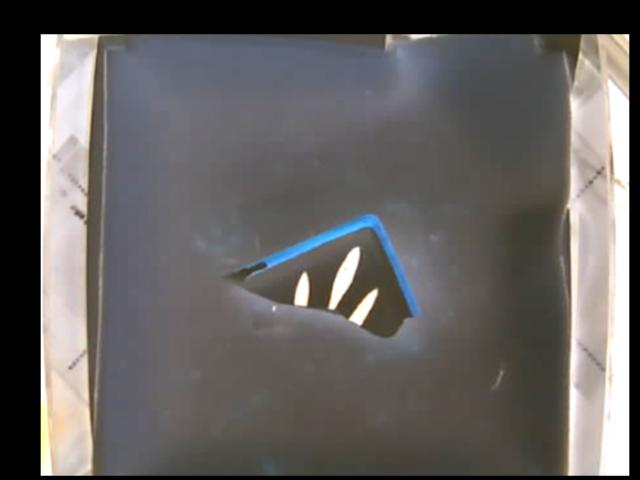China: (222, 213, 418, 337)
